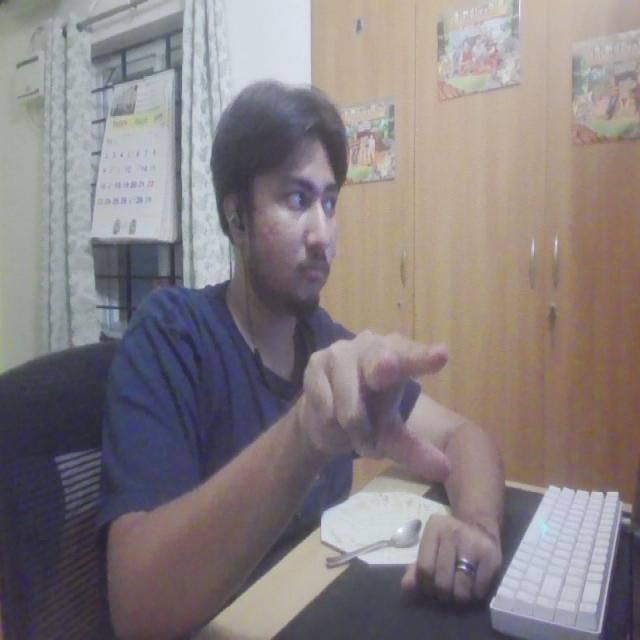no: (296, 330, 463, 495)
